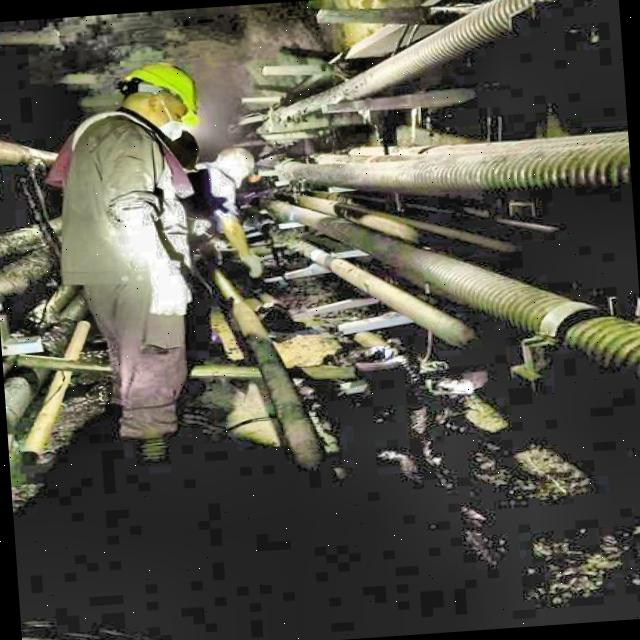helmet: (110, 56, 207, 147)
